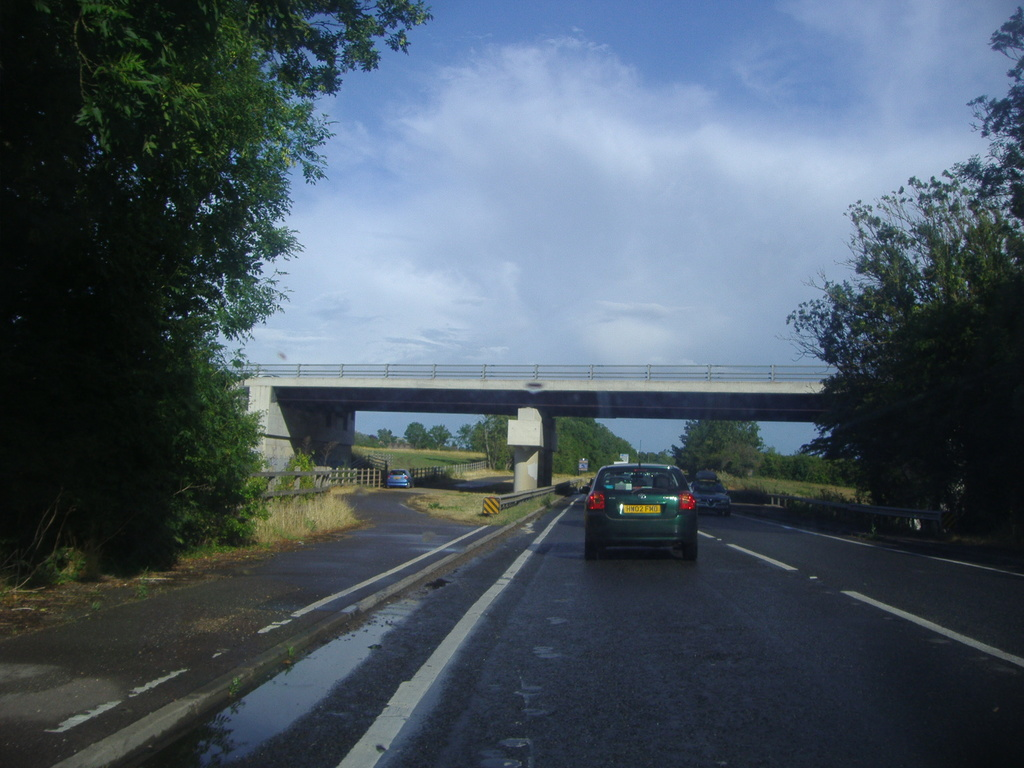license plate: (624, 504, 659, 513)
